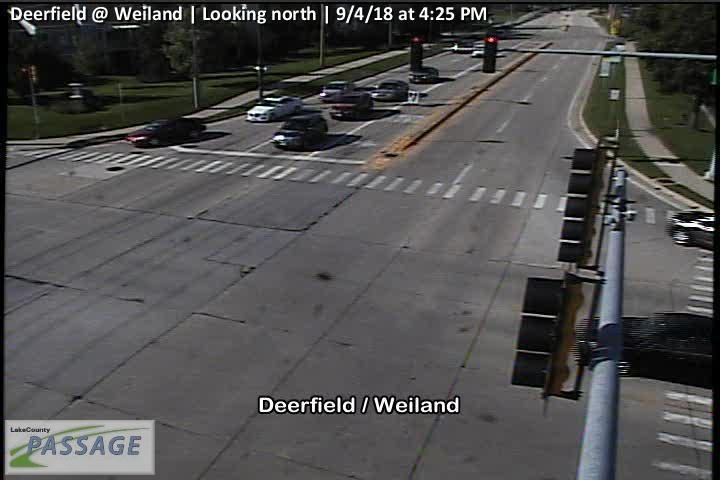SUV: (272, 114, 329, 150), (329, 92, 373, 118)
Sedan: (579, 312, 718, 391), (126, 120, 207, 147), (246, 94, 302, 123), (370, 81, 410, 100), (320, 79, 354, 101), (408, 67, 439, 82)
